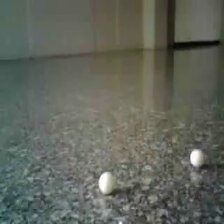w: (98, 172, 115, 194), (190, 149, 205, 168)
